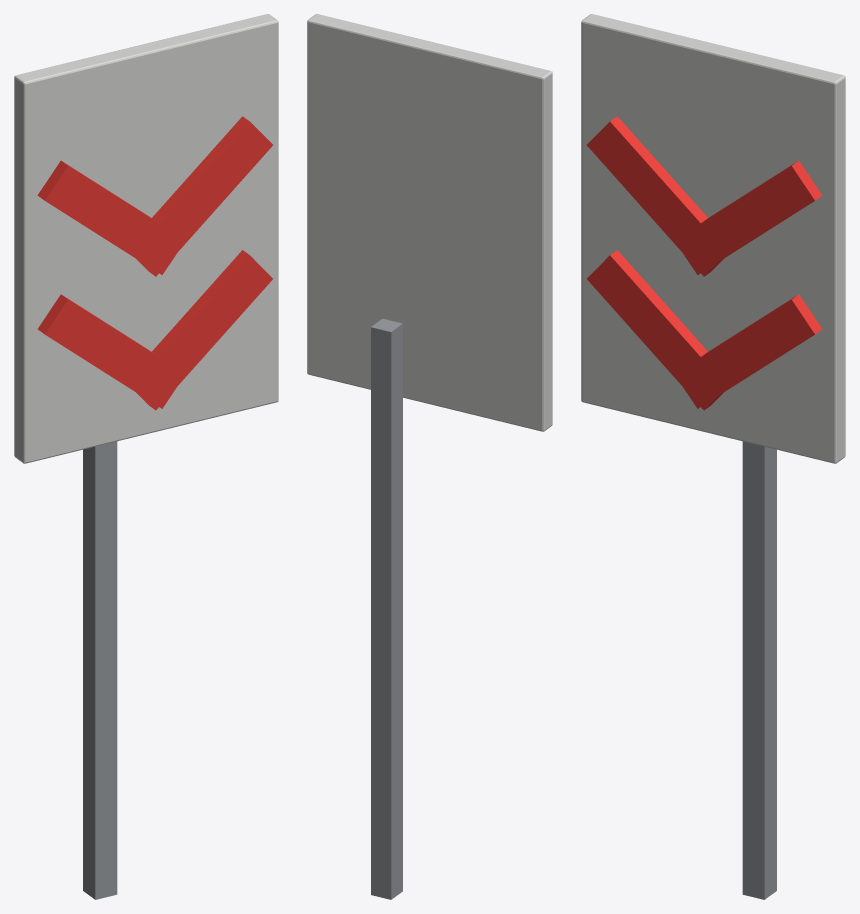
File: prop_chevron_board.glb
3 views of the same model, side by side, from view 1: azimuth 30°, elevation 25°; view 2: azimuth 150°, elevation 25°; view 3: azimuth 330°, elevation 25° (orthographic). The views are drawn at different scales.
Visible parts, largest first — view 1: chevron_board.001, chevron_stripes, chevron_post; view 2: chevron_board.001, chevron_post; view 3: chevron_board.001, chevron_stripes, chevron_post.
Part boxes in pixels (x1,y1,x2,y2): chevron_board.001: (14, 14, 278, 463); chevron_stripes: (37, 116, 272, 410); chevron_post: (83, 441, 117, 899); chevron_board.001: (307, 14, 552, 431); chevron_post: (371, 318, 402, 899); chevron_board.001: (581, 14, 845, 463); chevron_stripes: (587, 116, 822, 410); chevron_post: (742, 441, 776, 899).
Bounding box in the file's own units: 0.7 × 2.3 × 0.31.
